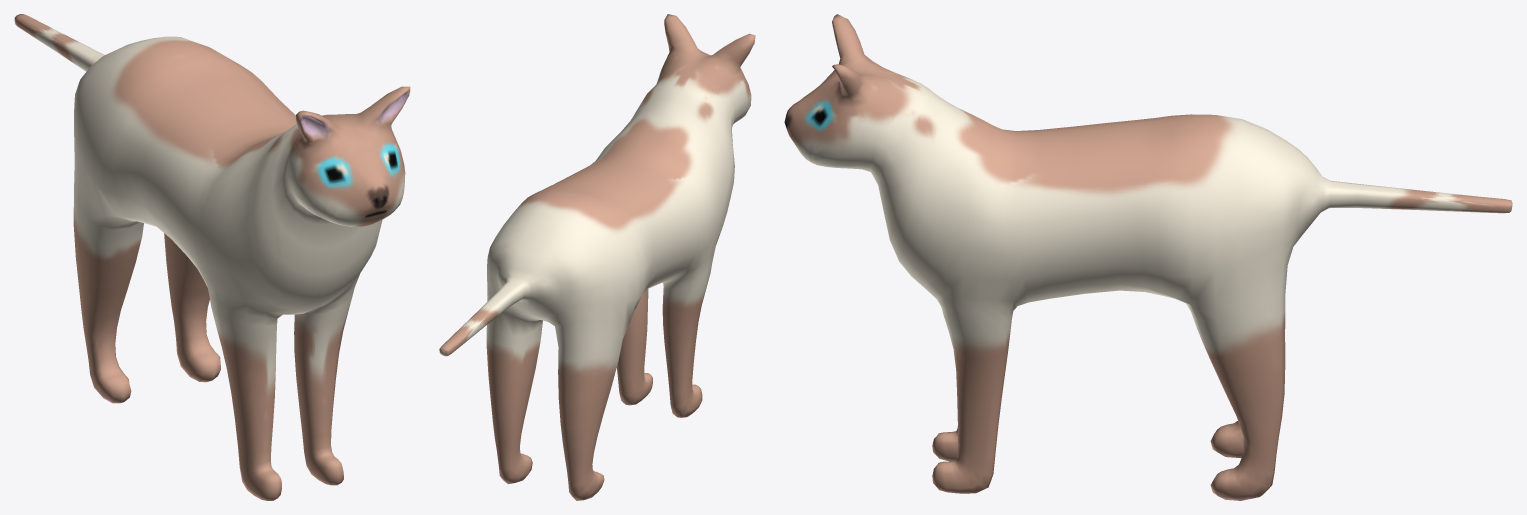
File: cat.gltf
3 views of the same model, side by side, from view 1: azimuth 30°, elevation 25°; view 2: azimuth 150°, elevation 25°; view 3: azimuth 270°, elevation 25° (orthographic). The views are drawn at different scales.
Parts seen in each view (by area): view 1: Cube; view 2: Cube; view 3: Cube.
Boxes of the visible parts, x1=… form: Cube: x1=14, y1=14, x2=410, y2=500; Cube: x1=439, y1=14, x2=755, y2=500; Cube: x1=784, y1=14, x2=1512, y2=500.
Bounding box in the file's own units: 0.1338 × 0.3291 × 0.4968.
Materials: 1 (1 with a texture image).
